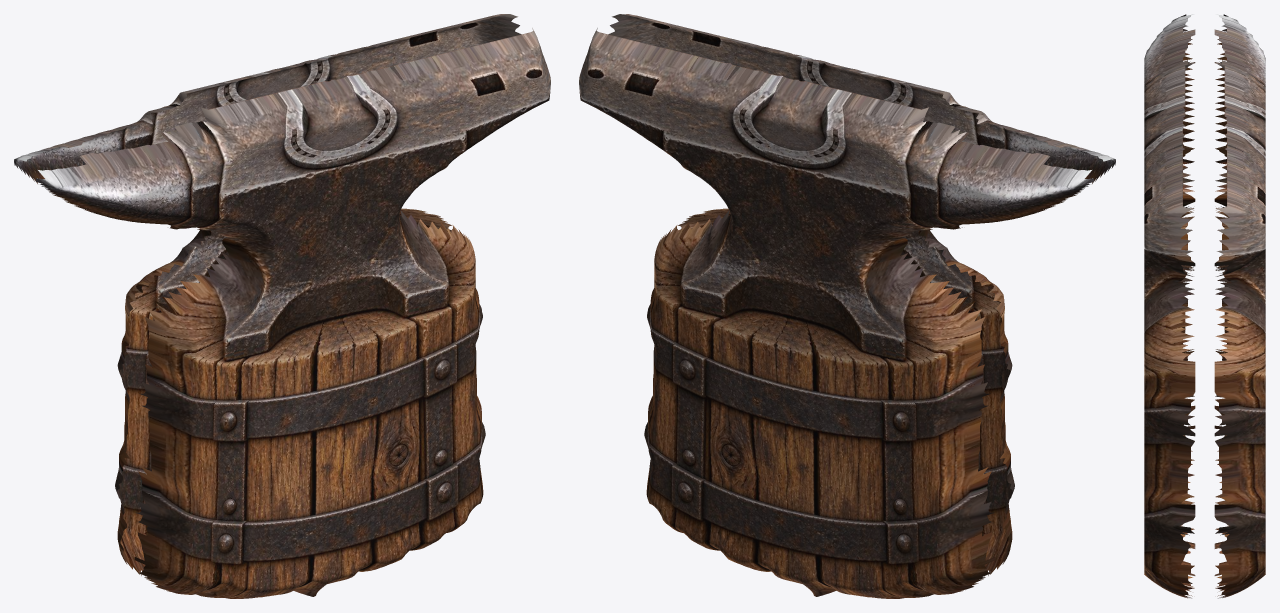
Rendered from v4-forge-scatter-anvil.glb.
3 views of the same model, side by side, from view 1: azimuth 30°, elevation 25°; view 2: azimuth 150°, elevation 25°; view 3: azimuth 270°, elevation 25° (orthographic). The views are drawn at different scales.
Parts seen in each view (by area): view 1: v4-forge-scatter-anvil; view 2: v4-forge-scatter-anvil; view 3: v4-forge-scatter-anvil.
Boxes of the visible parts, x1=… form: v4-forge-scatter-anvil: x1=14, y1=14, x2=550, y2=598; v4-forge-scatter-anvil: x1=579, y1=14, x2=1115, y2=598; v4-forge-scatter-anvil: x1=1144, y1=14, x2=1265, y2=598.
Bounding box in the file's own units: 1.05 × 0.9867 × 0.24.
Materials: 1 (1 with a texture image).
